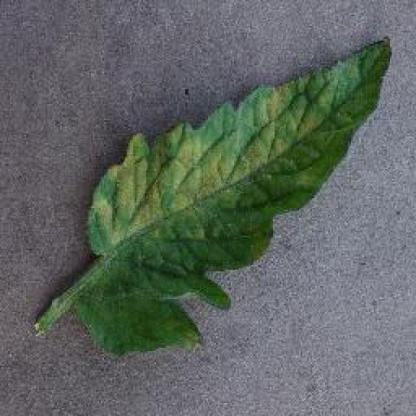Tomato_Leaf_Mold: (89, 34, 390, 309)
